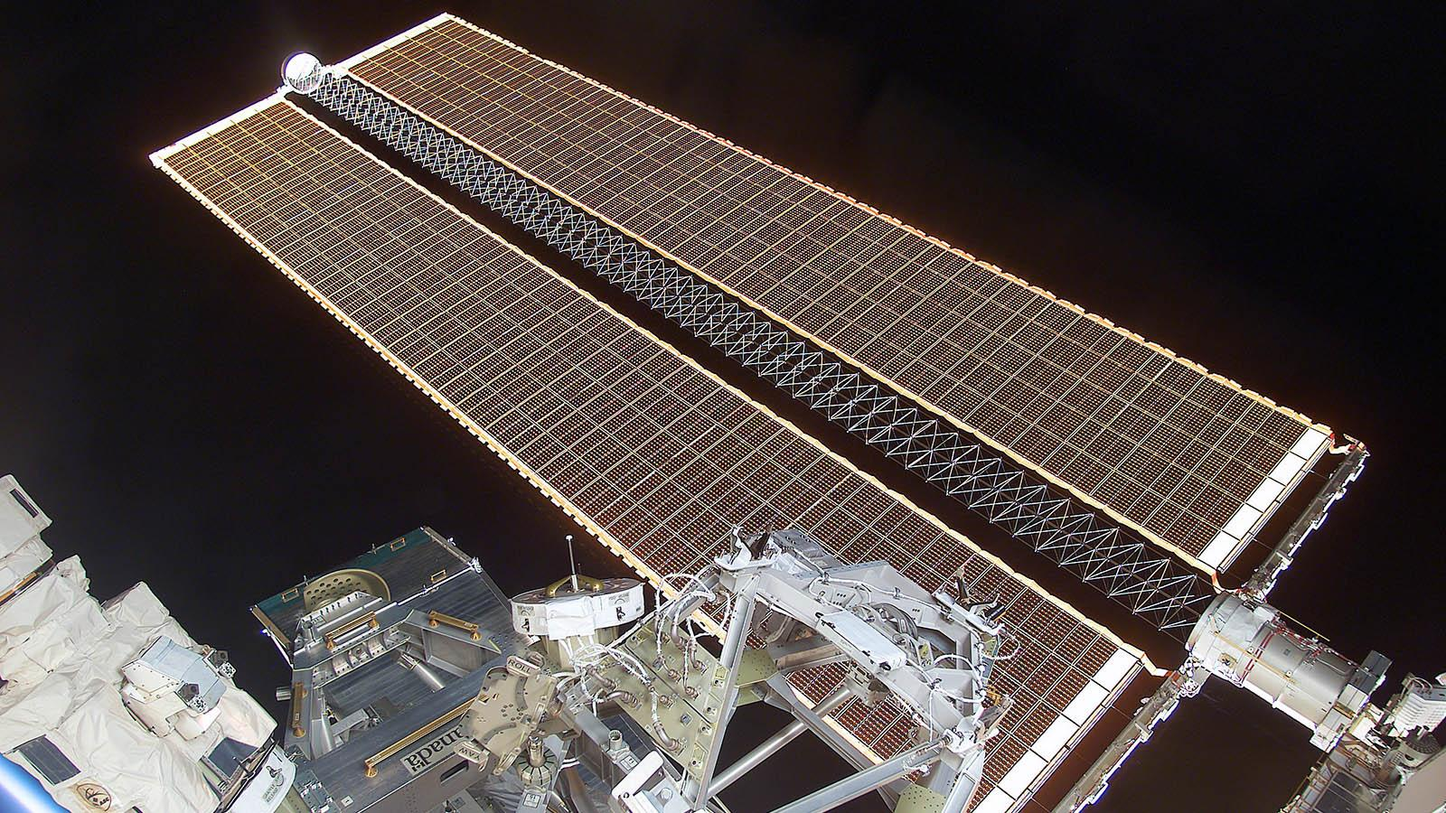solar: (149, 95, 1144, 813), (339, 11, 1338, 575)
